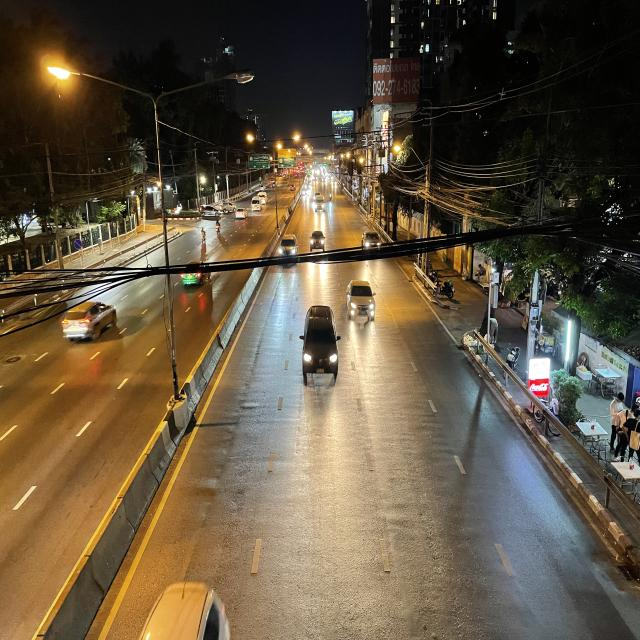car: (297, 301, 345, 386)
